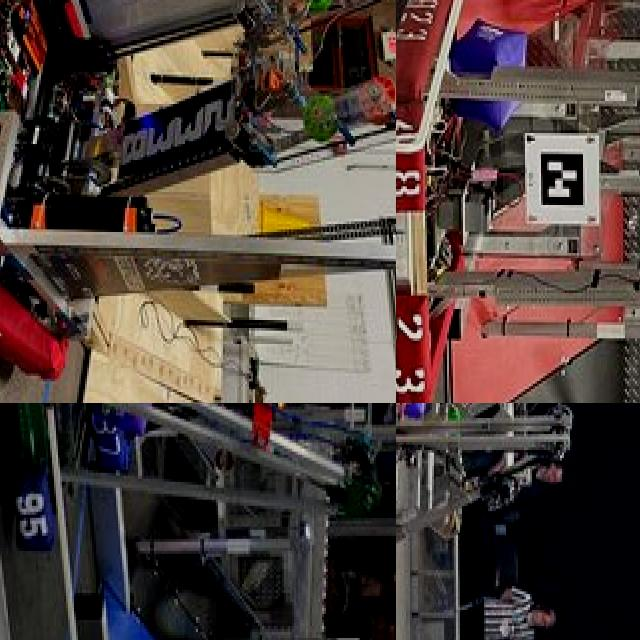FRC-Robots: (0, 0, 396, 403), (396, 0, 640, 403), (0, 403, 396, 566), (396, 403, 589, 630)
